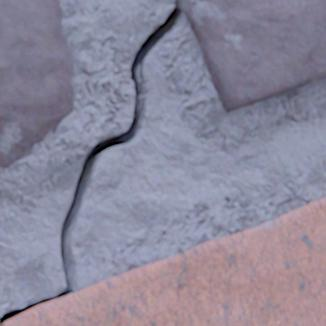brick: (0, 197, 325, 325), (175, 0, 325, 112), (0, 0, 74, 168)
crack: (0, 1, 180, 324)
